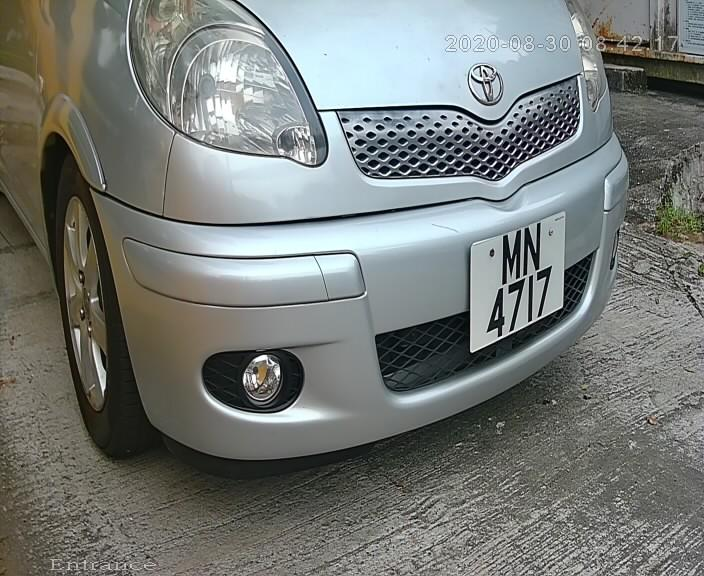License Plate: (466, 196, 563, 363)
